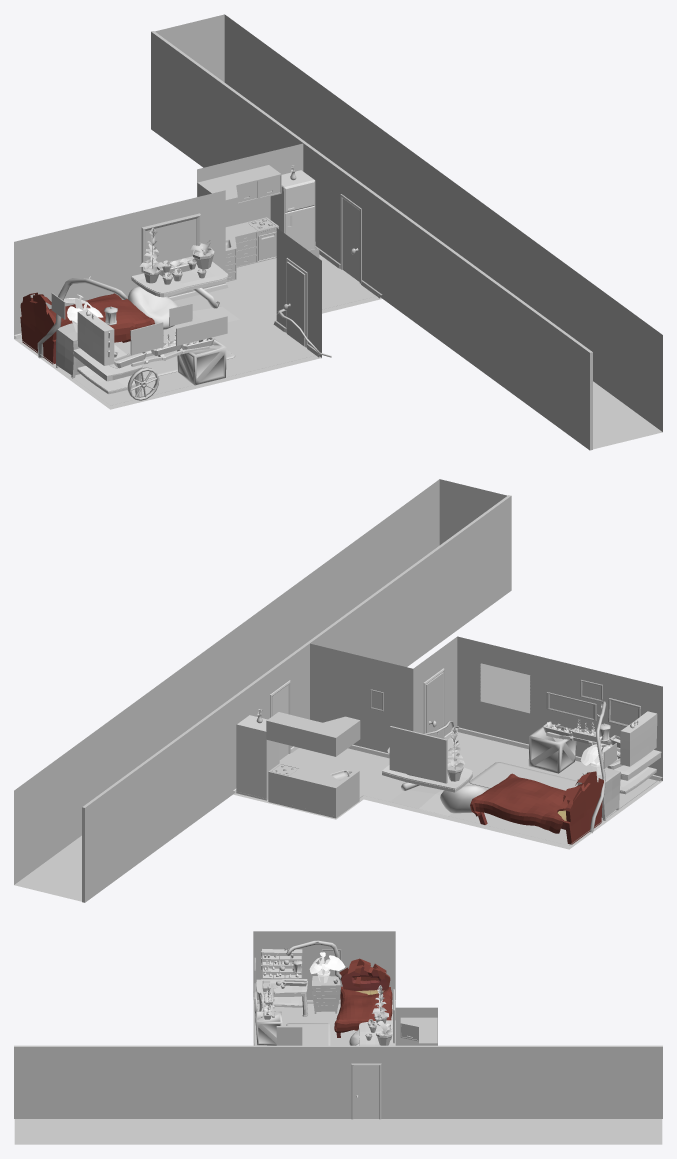
The picture shows the model from 3 angles, top to bottom: view 1: azimuth 30°, elevation 25°; view 2: azimuth 150°, elevation 25°; view 3: azimuth 270°, elevation 25°; orthographic projection. The views are drawn at different scales.
Visible parts, largest first — view 1: structure, front_wall, BED, fridge, cabinet_top, sink, quadrão, rodape, Table.001, Table, crate, Estante2 (+10 smaller); view 2: structure, front_wall, BED, sink, cabinet_top, fridge, quadrão, Plane.001, crate, rodape, Estante2, Plane (+8 smaller); view 3: front_wall, structure, BED, porta, Table, Estante2, cabinet_top, Nightstand, crate, Plane, planta, rodape (+3 smaller).
Boxes of the visible parts, bbox=[...] form: structure: bbox=[14, 14, 662, 449]; front_wall: bbox=[151, 31, 592, 450]; BED: bbox=[20, 292, 154, 364]; fridge: bbox=[270, 170, 315, 250]; cabinet_top: bbox=[197, 165, 281, 219]; sink: bbox=[225, 217, 278, 281]; quadrão: bbox=[141, 213, 200, 272]; rodape: bbox=[14, 194, 382, 405]; Table.001: bbox=[131, 261, 228, 308]; Table: bbox=[73, 344, 142, 397]; crate: bbox=[177, 338, 226, 385]; Estante2: bbox=[77, 309, 114, 365]; structure: bbox=[14, 479, 662, 901]; front_wall: bbox=[82, 495, 511, 902]; BED: bbox=[470, 771, 603, 844]; sink: bbox=[268, 763, 359, 818]; cabinet_top: bbox=[266, 712, 360, 756]; fridge: bbox=[236, 715, 279, 800]; quadrão: bbox=[389, 726, 447, 783]; Plane.001: bbox=[479, 659, 531, 715]; crate: bbox=[528, 724, 576, 773]; rodape: bbox=[233, 668, 662, 845]; Estante2: bbox=[620, 711, 657, 766]; Plane: bbox=[469, 762, 577, 790]; front_wall: bbox=[14, 1045, 662, 1118]; structure: bbox=[14, 931, 662, 1144]; BED: bbox=[334, 958, 392, 1037]; porta: bbox=[353, 1065, 379, 1118]; Table: bbox=[256, 979, 308, 1016]; Estante2: bbox=[262, 949, 302, 978]; cabinet_top: bbox=[400, 1017, 437, 1045]; Nightstand: bbox=[312, 976, 340, 1013]; crate: bbox=[255, 1011, 282, 1045]; Plane: bbox=[286, 1023, 330, 1045]; planta: bbox=[309, 952, 345, 983]; rodape: bbox=[253, 1000, 395, 1119].
Size of the model in its own units: 13.7 by 3.3 by 26.51.
Materials: 15 (1 with a texture image).
